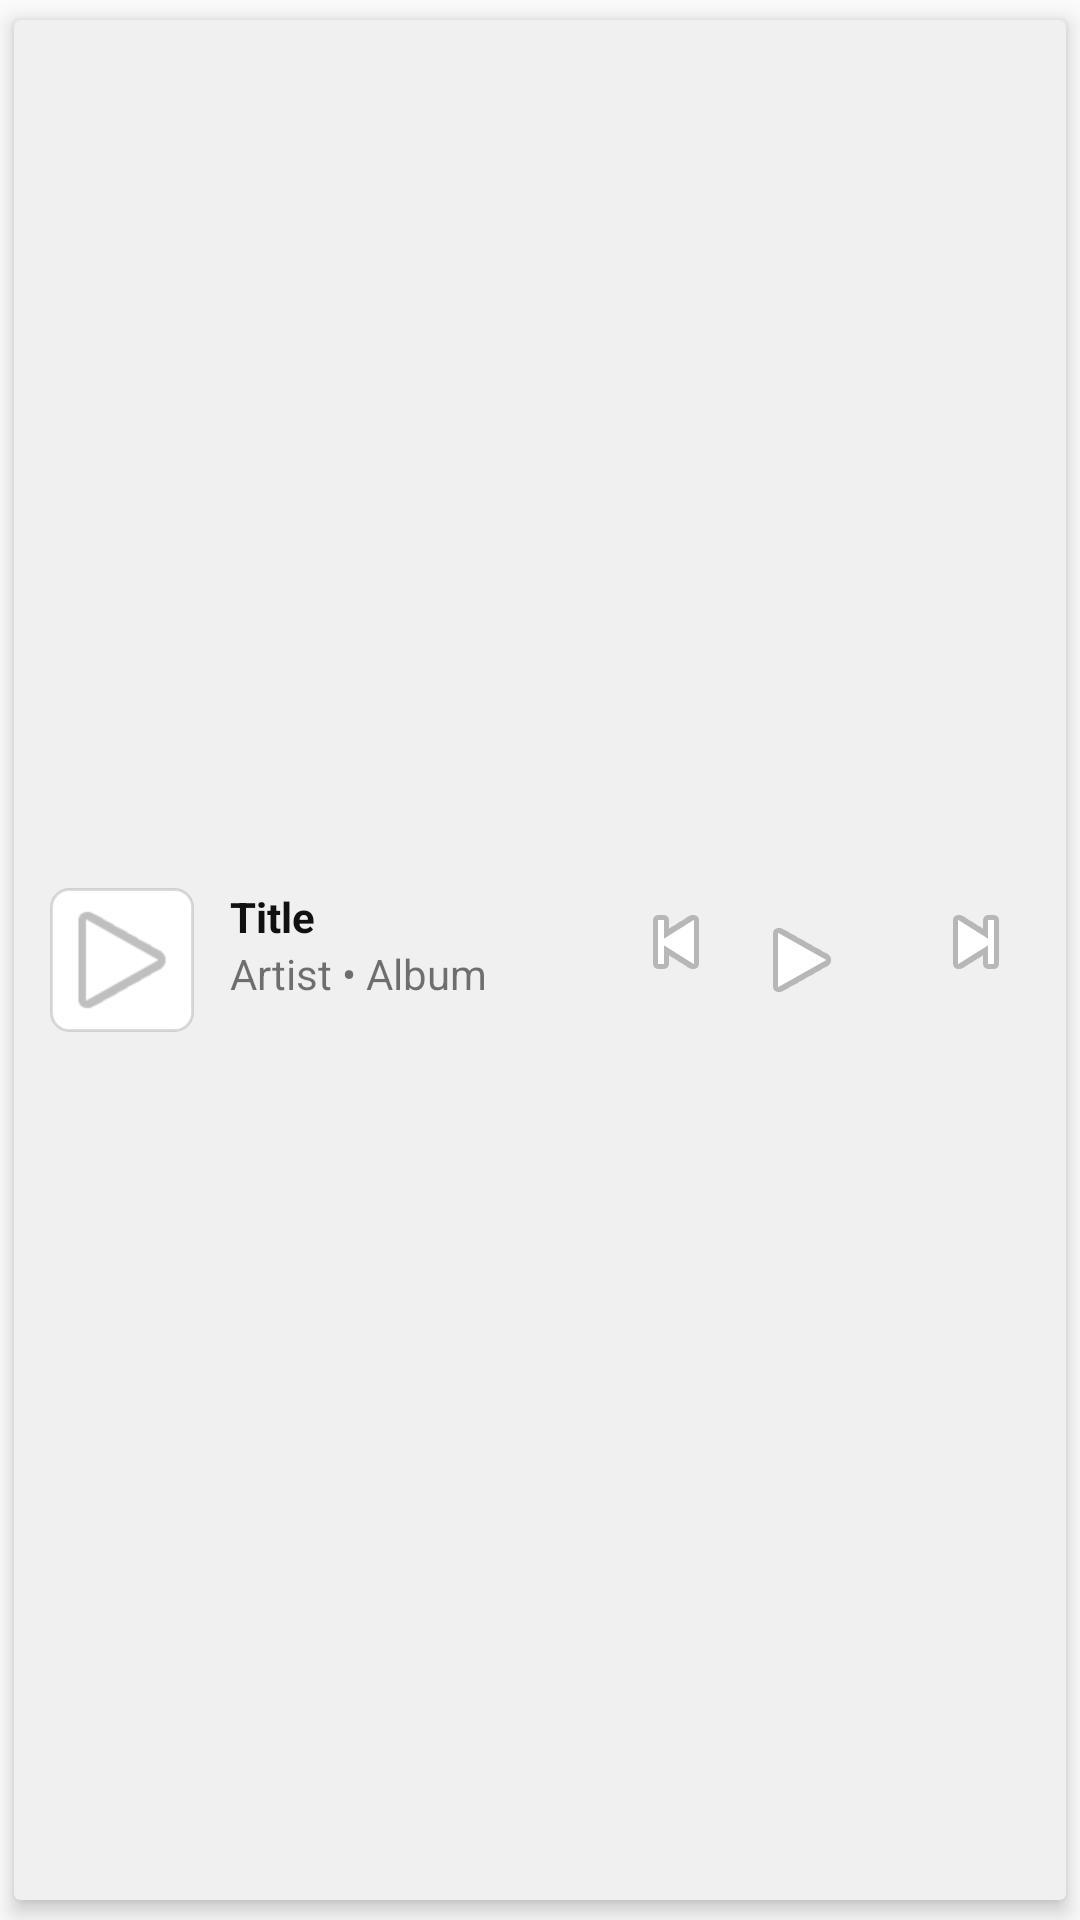

Screen size 1080 x 1920. Icon name, then its center in pixels as point (x, y):
Next: point (976, 942)
play: point (122, 960), point (802, 960)
Previous: point (676, 942)
